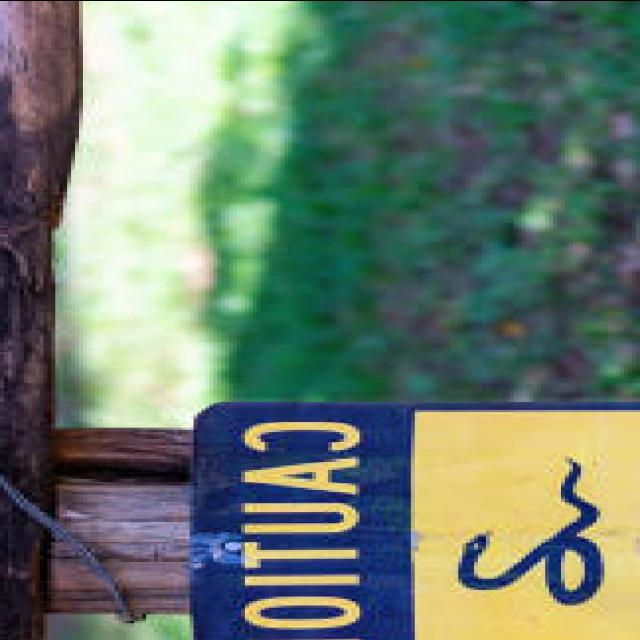Snake: (442, 450, 628, 613)
